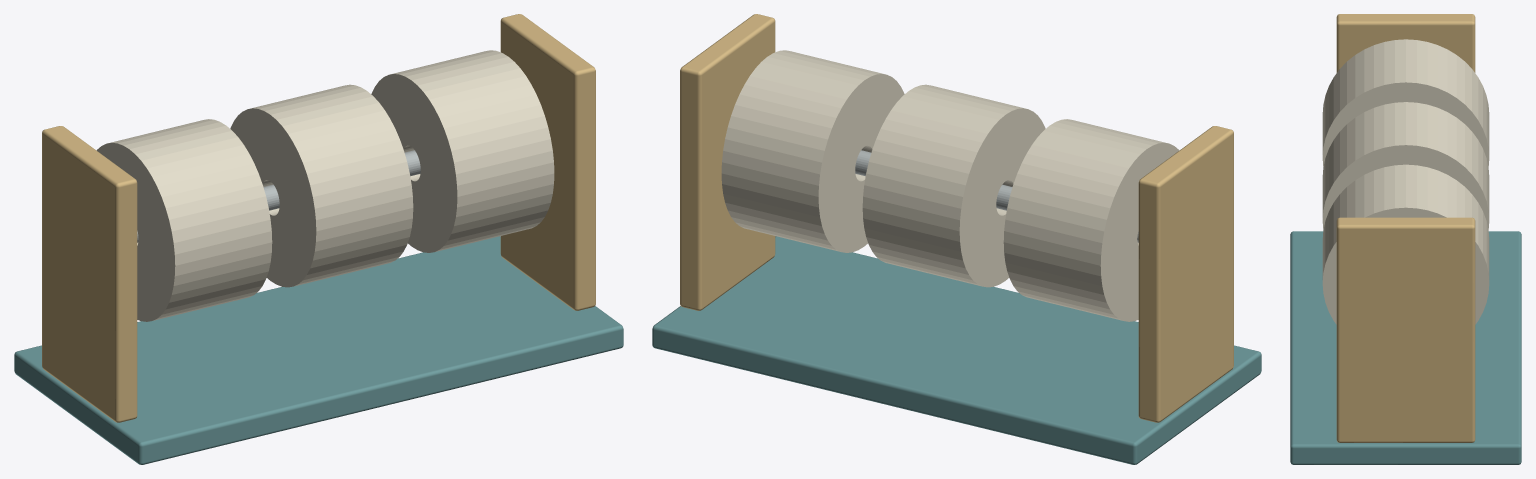
The model's file is abandoned-cinema-and-projection-booth-abandoned-cinema-9cae8568__29689.glb.
3 renders of one model, left to right at view 1: azimuth 30°, elevation 25°; view 2: azimuth 150°, elevation 25°; view 3: azimuth 270°, elevation 25°, orthographic. The views are drawn at different scales.
Parts seen in each view (by area): view 1: abandoned-cinema-and-projection-booth-ticket-roll-rack; view 2: abandoned-cinema-and-projection-booth-ticket-roll-rack; view 3: abandoned-cinema-and-projection-booth-ticket-roll-rack.
Part boxes in pixels (x1=…): abandoned-cinema-and-projection-booth-ticket-roll-rack: x1=14, y1=14, x2=623, y2=464; abandoned-cinema-and-projection-booth-ticket-roll-rack: x1=652, y1=14, x2=1261, y2=464; abandoned-cinema-and-projection-booth-ticket-roll-rack: x1=1290, y1=14, x2=1521, y2=464.
Size of the model in its own units: 0.55 by 0.285 by 0.25.
